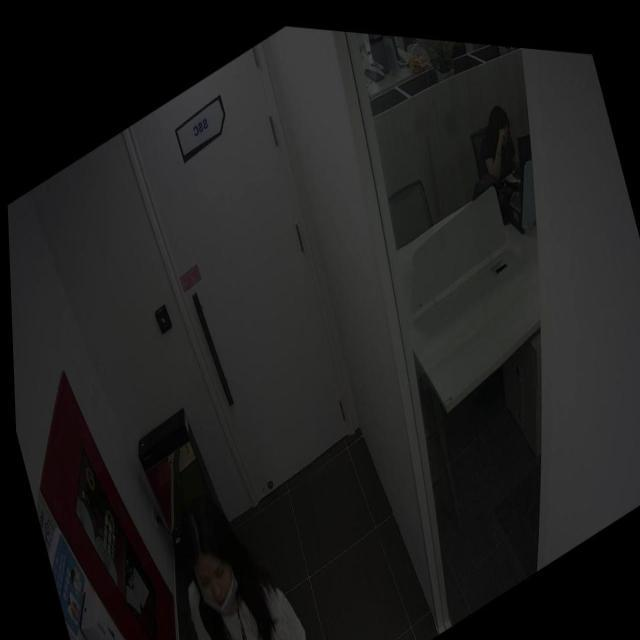hairnet: (190, 542, 240, 624)
